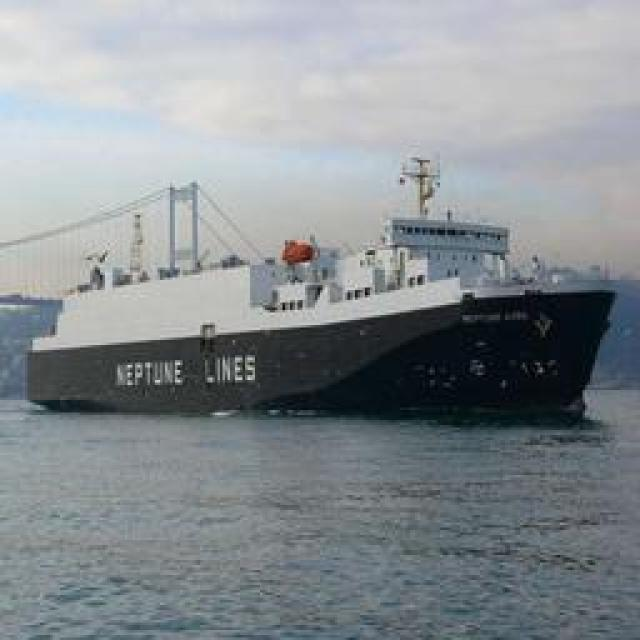ship2: (26, 154, 616, 423)
